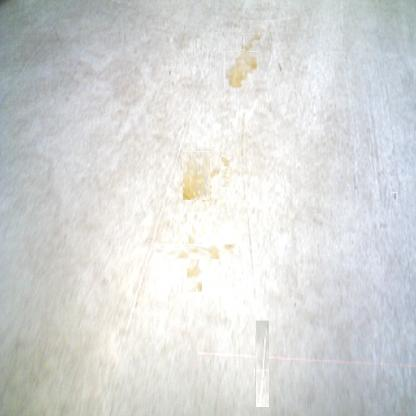liquid: (171, 228, 218, 276), (182, 151, 210, 200), (255, 320, 269, 407), (224, 51, 257, 87), (216, 162, 236, 182), (242, 33, 260, 51)
mark: (277, 61, 283, 72), (392, 192, 398, 201), (167, 68, 171, 76)
